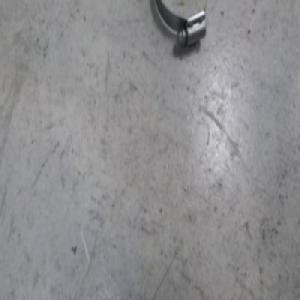AdjustableClamp: (154, 1, 207, 49)
